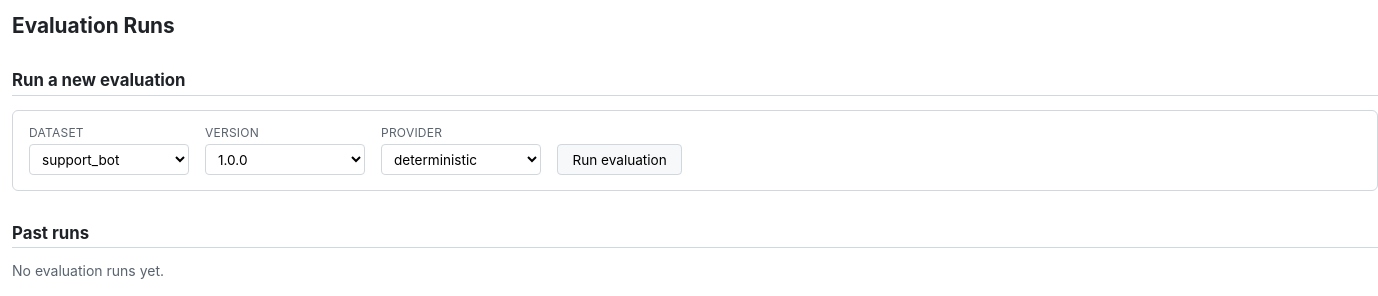
RunsList › new evaluation form › updates the version options when a different dataset is selected
This screenshot has width=1378, height=296.
Select "other_bot" in the dropdown labelled "Dataset": (109,160) top-left (29, 144), bottom-right (189, 175)
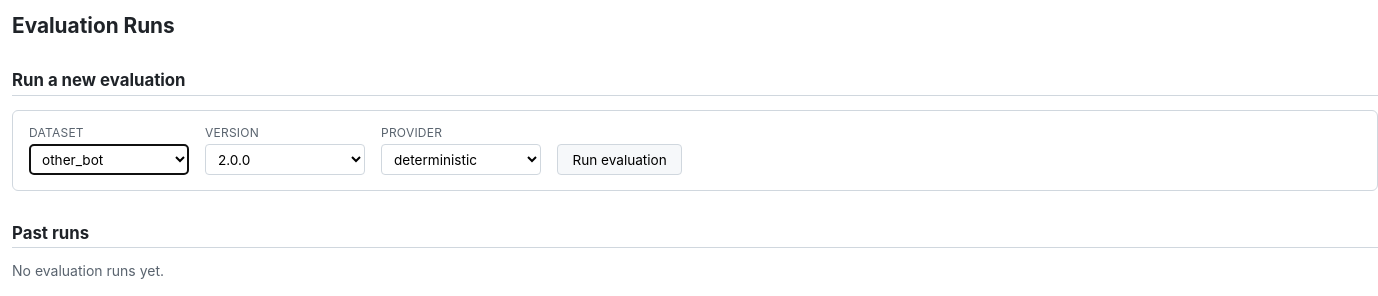
Check: the dropdown labelled "Version" shows "2.0.0", box top-left (205, 144), bottom-right (365, 175)
